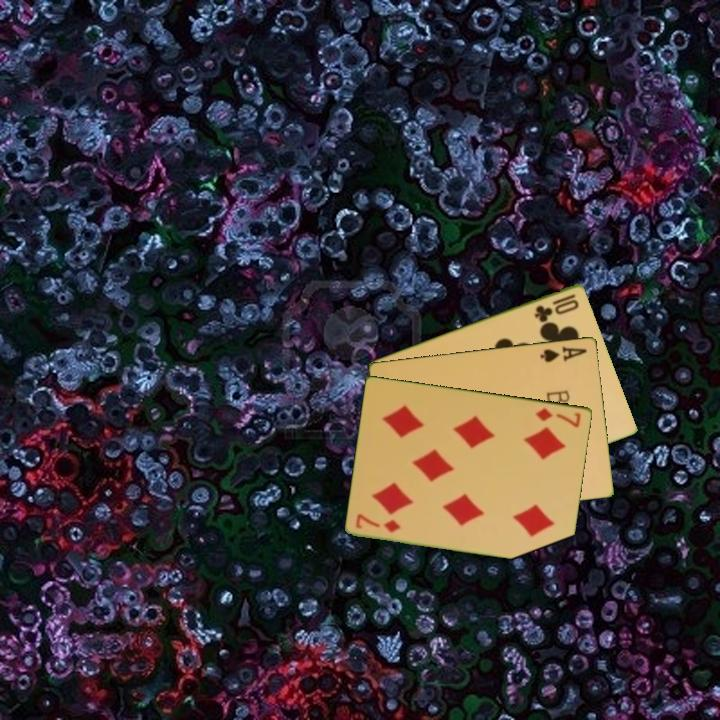10c: (531, 290, 582, 324)
7d: (532, 404, 584, 430), (352, 510, 403, 535)
As: (537, 342, 590, 365)
